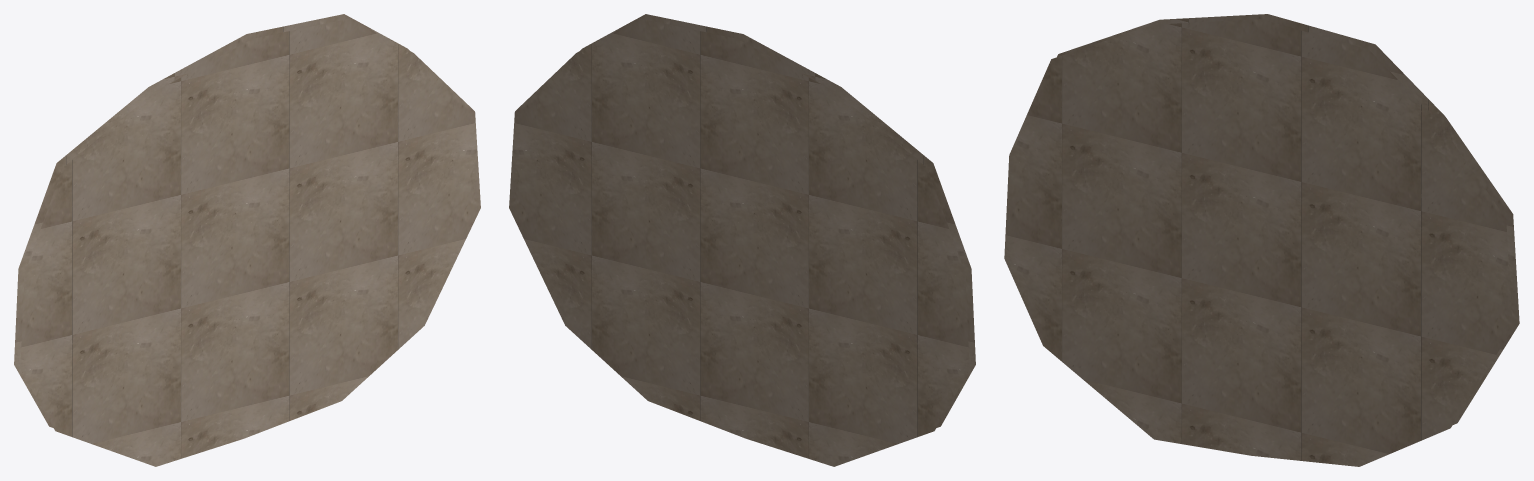
Rendered from floor_38.obj.
3 renders of one model, left to right at view 1: azimuth 30°, elevation 25°; view 2: azimuth 150°, elevation 25°; view 3: azimuth 330°, elevation 25°, orthographic. The views are drawn at different scales.
Parts seen in each view (by area): view 1: floor_38; view 2: floor_38; view 3: floor_38.
Part boxes in pixels (x1,y1,x2,y2): floor_38: (14,14,480,466); floor_38: (509,14,975,466); floor_38: (1004,14,1519,466).
Bounding box in the file's own units: 4.24 × 3.56 × 0.1.
Materials: 1 (1 with a texture image).
